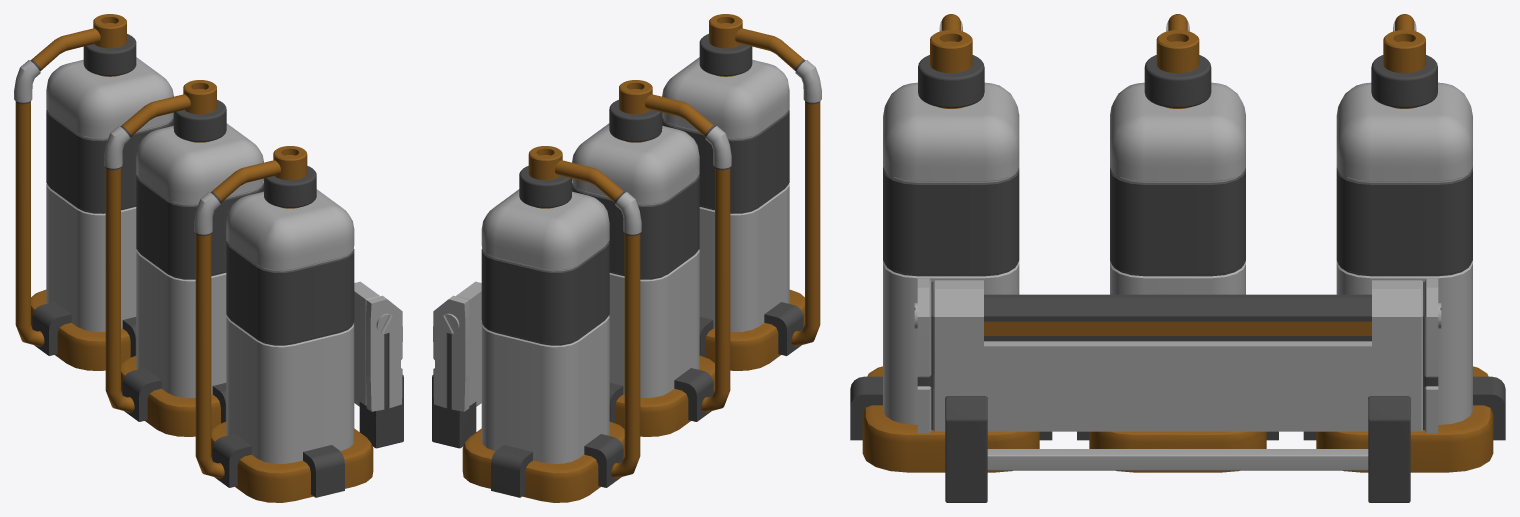
The model's file is env_propanestation_structure05.fbx.
3 views of the same model, side by side, from view 1: azimuth 30°, elevation 25°; view 2: azimuth 150°, elevation 25°; view 3: azimuth 270°, elevation 25° (orthographic). The views are drawn at different scales.
Parts seen in each view (by area): view 1: pCube480; view 2: pCube480; view 3: pCube480.
Part boxes in pixels (bbox=[...]): pCube480: bbox=[14, 14, 403, 502]; pCube480: bbox=[432, 14, 821, 502]; pCube480: bbox=[850, 14, 1505, 502].
Bounding box in the file's own units: 56.51 × 82.39 × 123.
